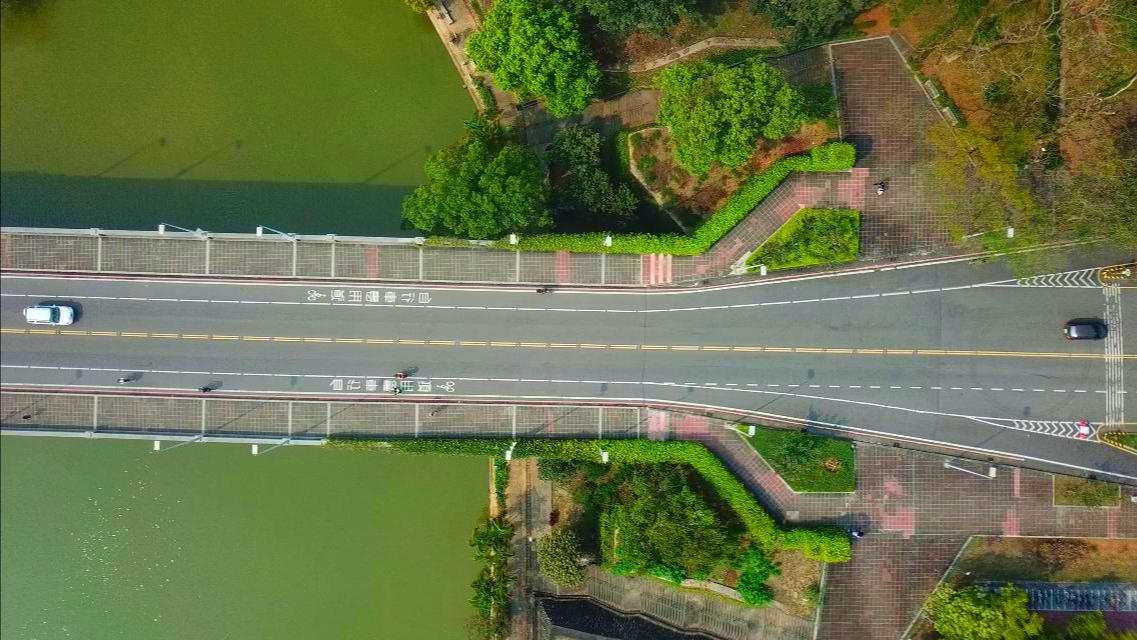vehicle: (23, 304, 74, 327), (1063, 323, 1107, 341)
